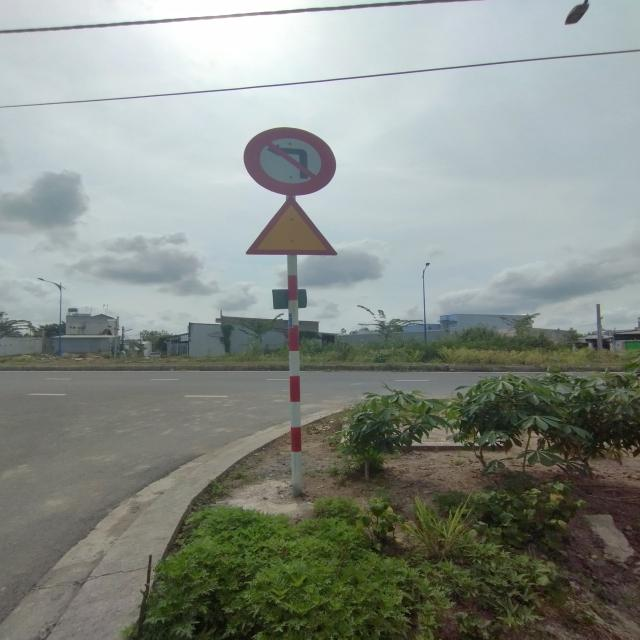Cam_Re_Trai: (243, 127, 338, 196)
Gioi_Han_Toc_Do_25: (245, 195, 337, 255)
